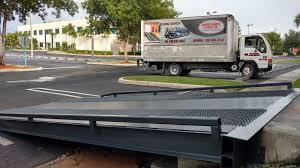Yard Ramp: (1, 84, 300, 163)
